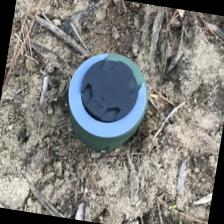M14: (59, 46, 152, 156)
